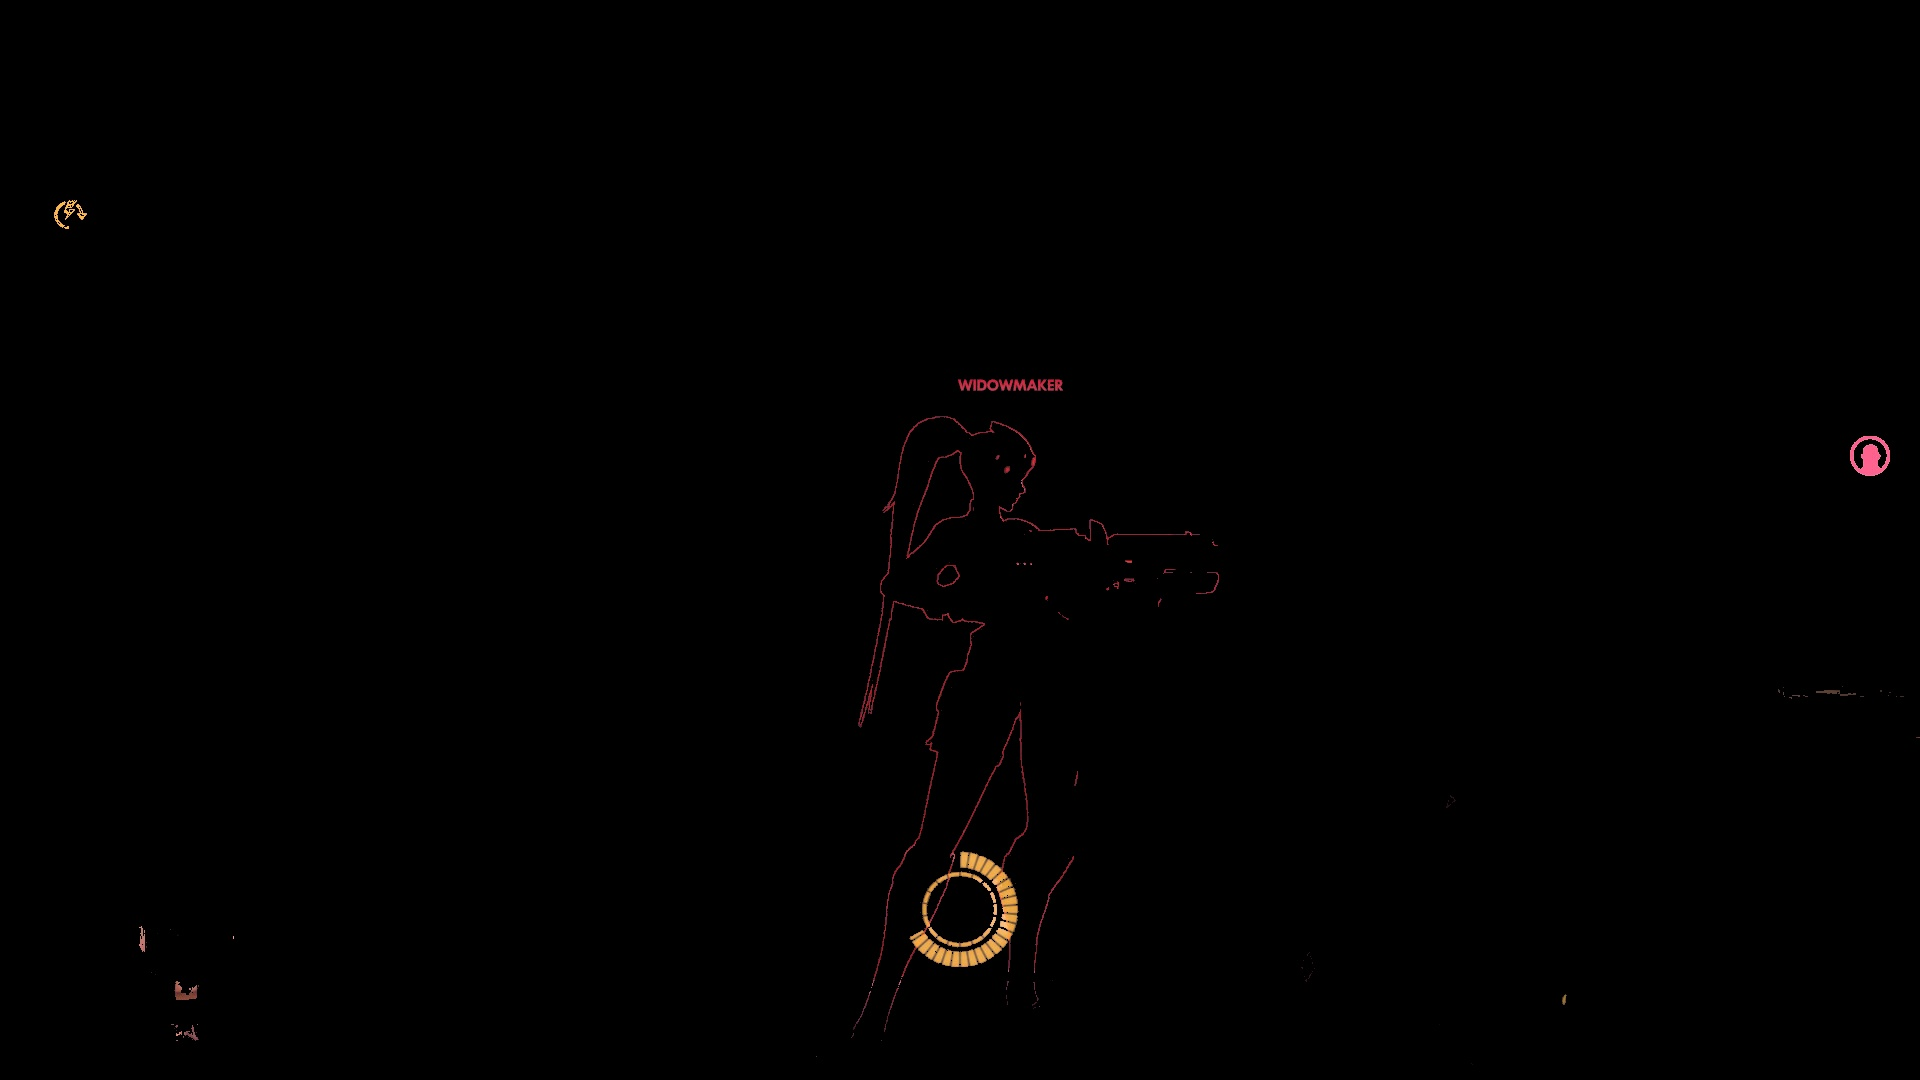widowmaker: (837, 419, 1218, 1080)
